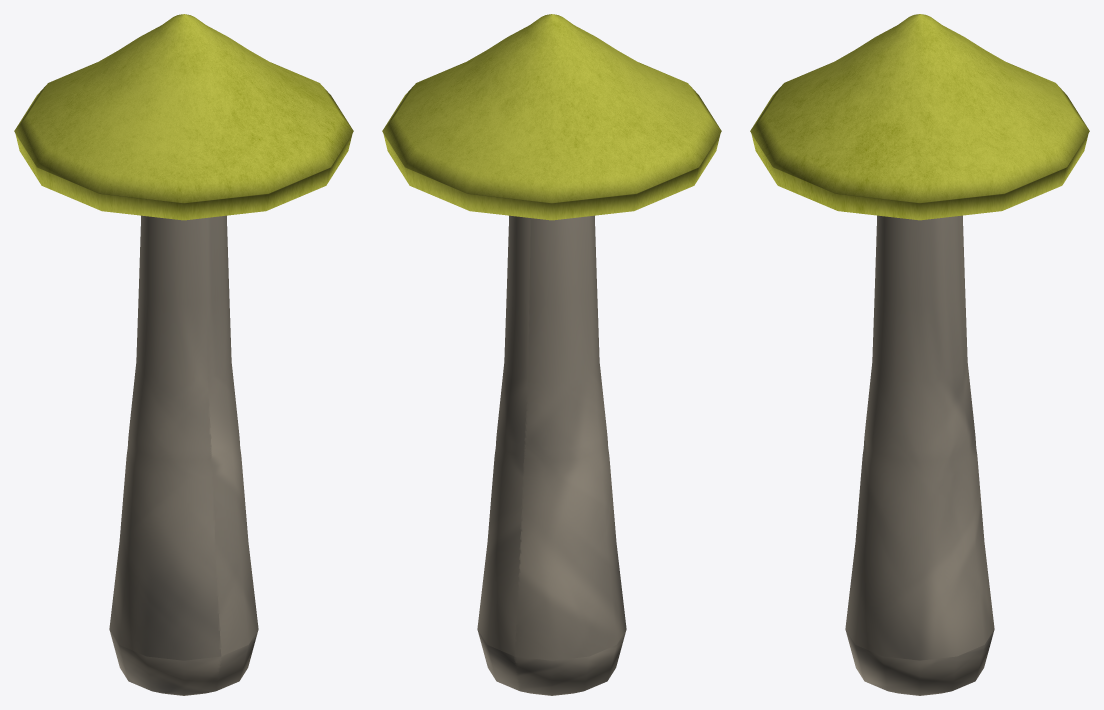
The model's file is Mushroom2.fbx.
The picture shows the model from 3 angles, left to right: view 1: azimuth 30°, elevation 25°; view 2: azimuth 150°, elevation 25°; view 3: azimuth 270°, elevation 25°; orthographic projection.
Parts seen in each view (by area): view 1: Cylinder001; view 2: Cylinder001; view 3: Cylinder001.
Part boxes in pixels (<box>): Cylinder001: <box>14,14,353,695</box>; Cylinder001: <box>382,14,721,695</box>; Cylinder001: <box>750,14,1089,695</box>.
Bounding box in the file's own units: 42.45 × 91.47 × 42.45.
1 material, 1 textured.
